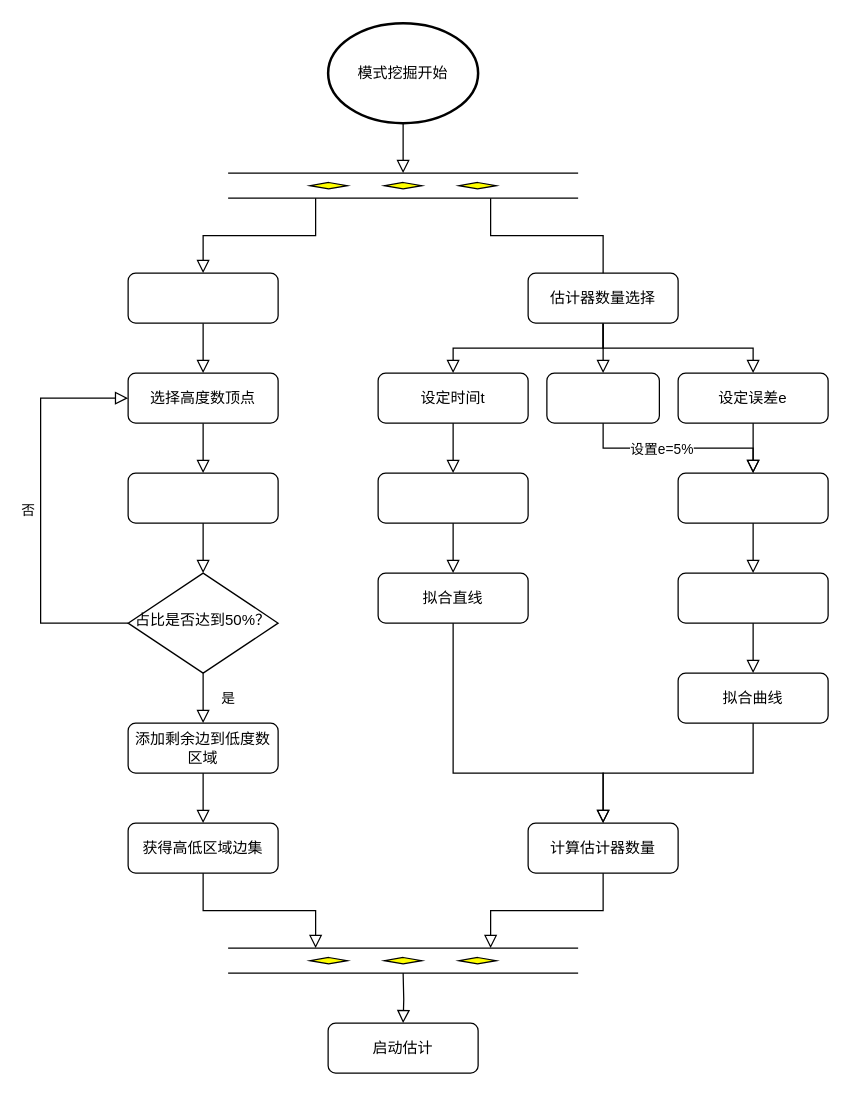
This 850x1095 diagram has some shape labels left out. Here are the shapes that lost their labels. From the top down, the centre of each, then its label:
At pixel 202 297: "区域划分".
At pixel 602 397: "未设定".
At pixel 202 497: "添加邻接边到高度数区域".
At pixel 452 497: "测试执行时间".
At pixel 752 497: "均匀采样获得小图".
At pixel 752 597: "测试误差".
